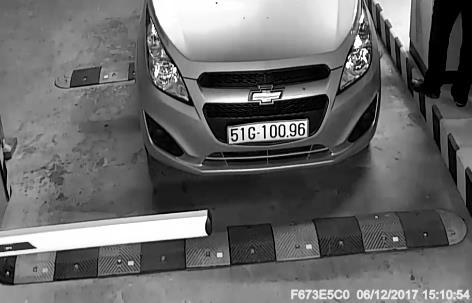License-plate: (206, 115, 318, 149)
